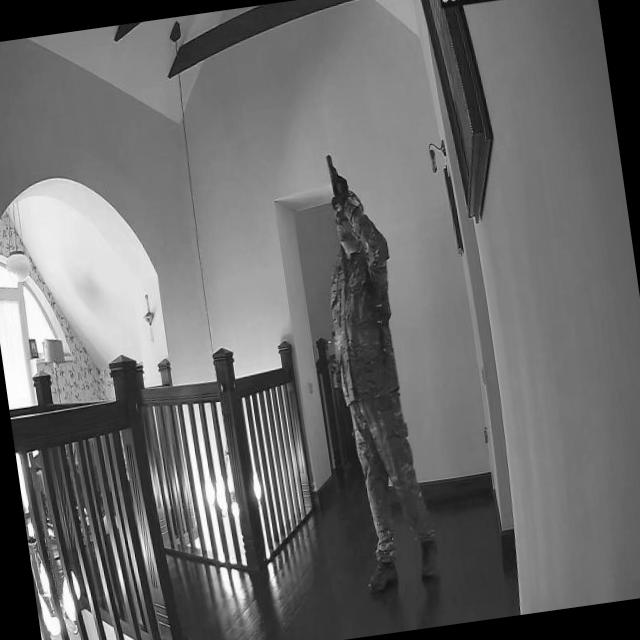gun: (324, 153, 352, 208)
person with a gun: (311, 183, 440, 602)
